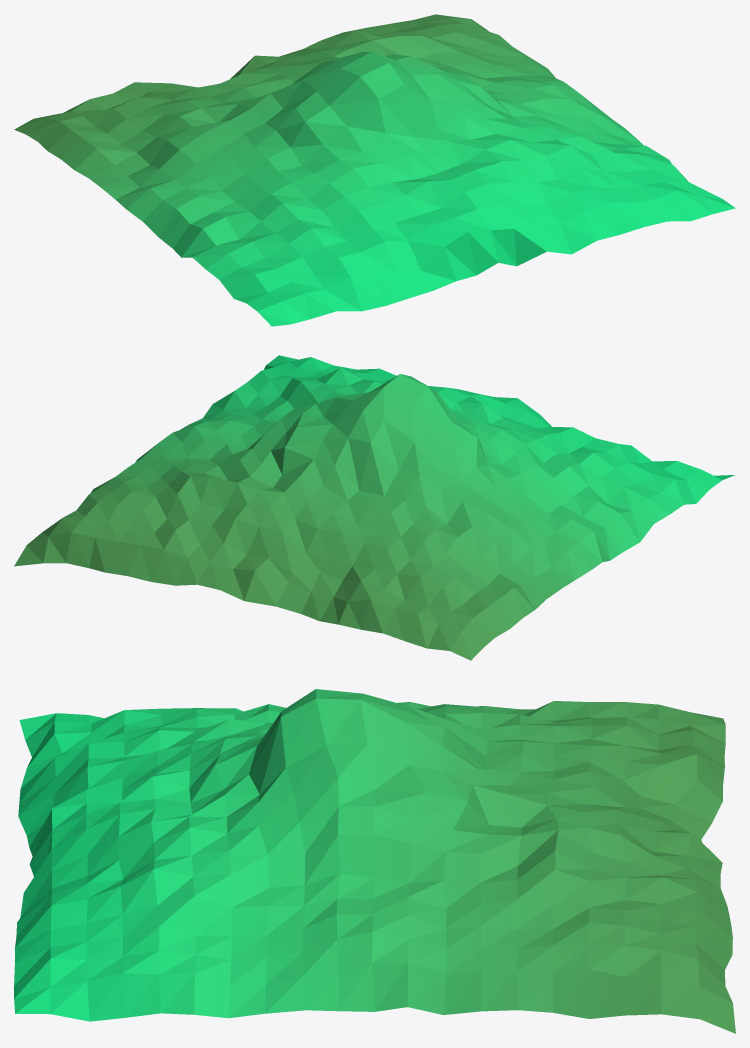
File: CUPIC_HILL.obj
3 renders of one model, top to bottom at view 1: azimuth 30°, elevation 25°; view 2: azimuth 150°, elevation 25°; view 3: azimuth 270°, elevation 25°, orthographic. The views are drawn at different scales.
Size of the model in its own units: 1499 by 422 by 1509.
Materials: 1 (1 with a texture image).
